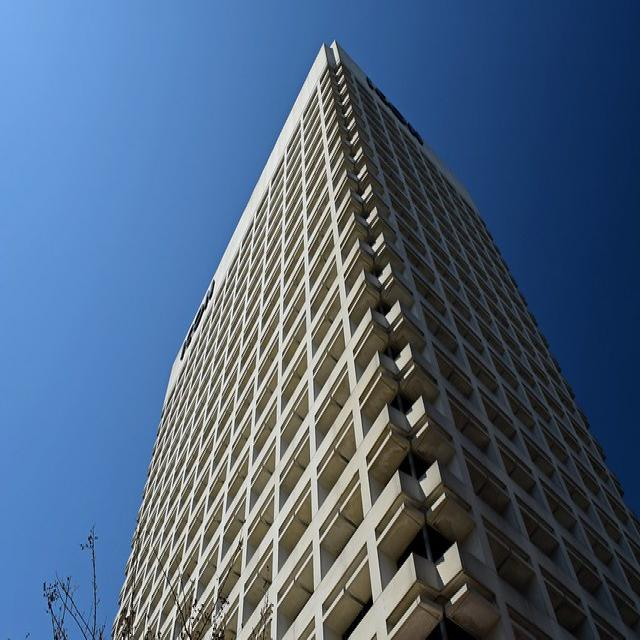Normal_building: (104, 27, 640, 640)
